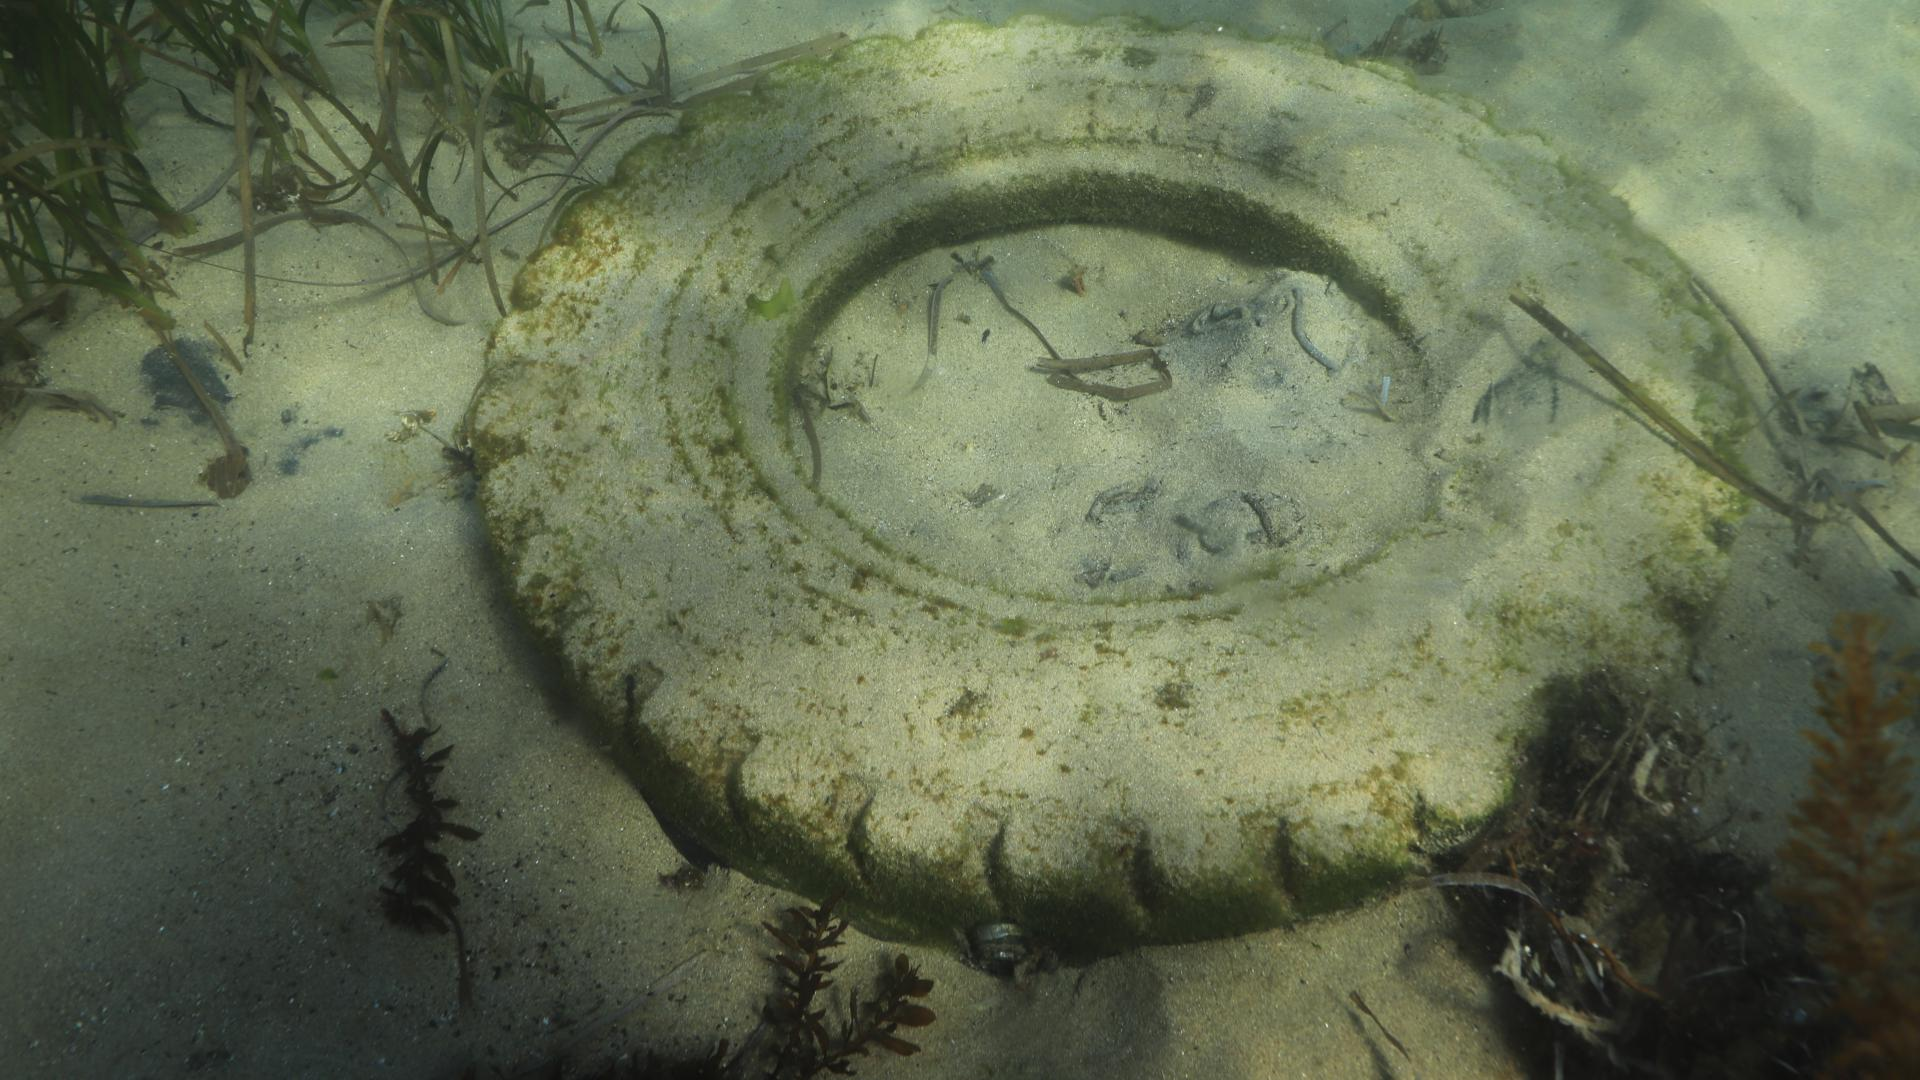tire: (465, 13, 1749, 968)
